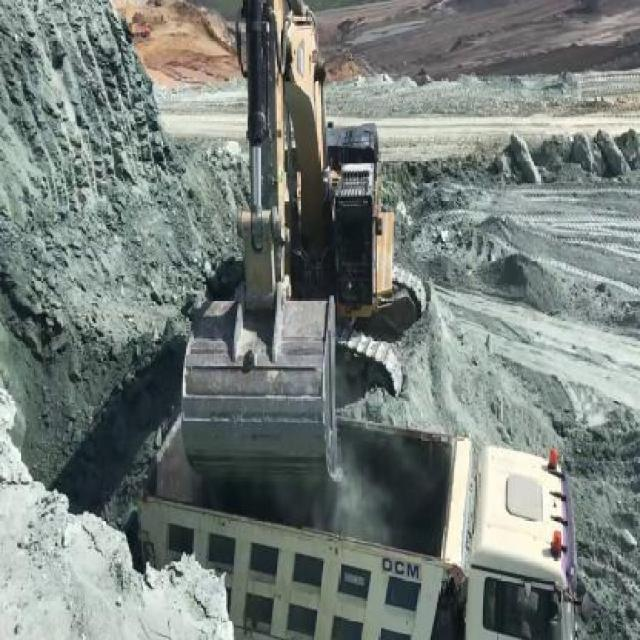Dump Truck: (135, 414, 576, 638)
Excavator: (176, 0, 429, 488)
